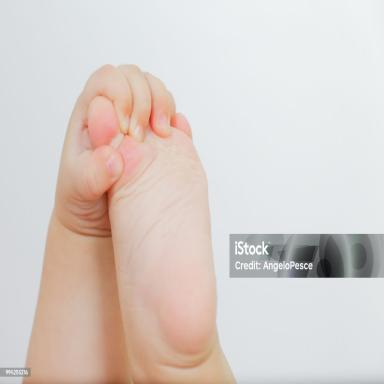normal skin: (25, 65, 235, 382)
